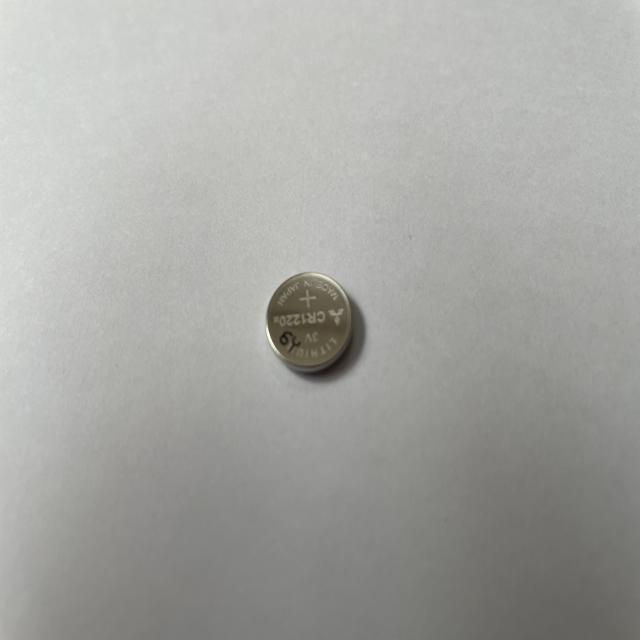COIN: (264, 269, 358, 372)
